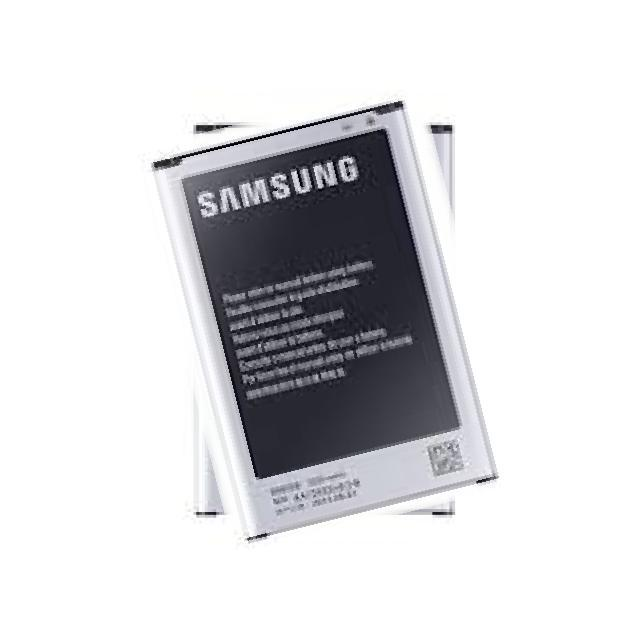Battery: (139, 95, 510, 549)
